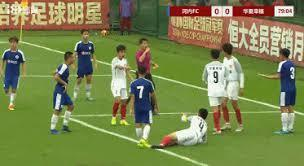Fall-Detected: (147, 104, 214, 150)
